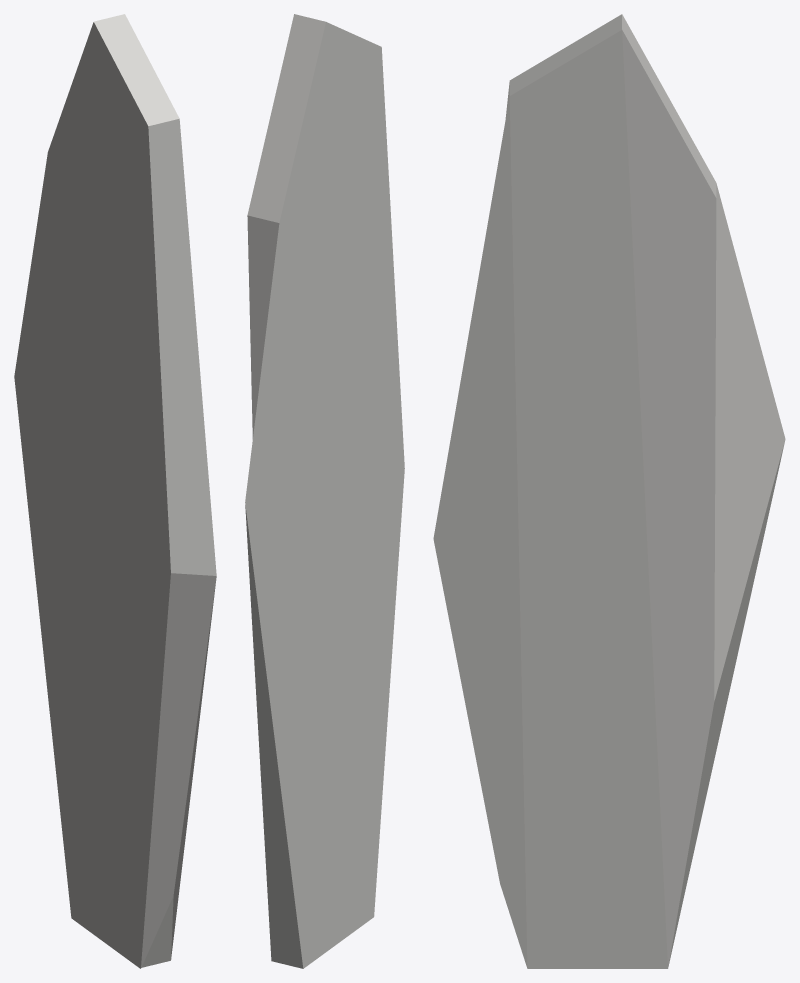
The model's file is epee_lame.fbx.
The picture shows the model from 3 angles, left to right: view 1: azimuth 30°, elevation 25°; view 2: azimuth 150°, elevation 25°; view 3: azimuth 270°, elevation 25°; orthographic projection. The views are drawn at different scales.
Parts seen in each view (by area): view 1: Cube.001; view 2: Cube.001; view 3: Cube.001.
Part boxes in pixels (box(x1,y1,x2,y2)): Cube.001: box(14, 14, 216, 968); Cube.001: box(245, 14, 404, 968); Cube.001: box(433, 14, 785, 968).
Bounding box in the file's own units: 23.57 × 657 × 223.
1 material, 1 textured.
